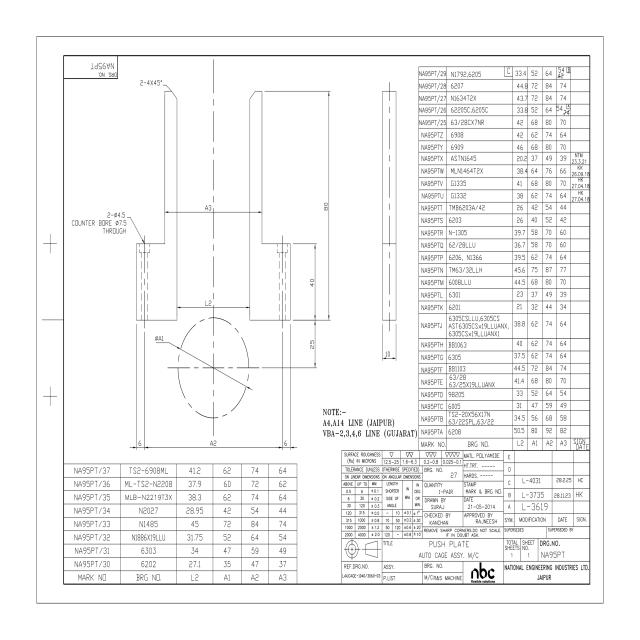dimension: (153, 332, 255, 393), (321, 89, 333, 320), (68, 209, 143, 240), (162, 200, 265, 217), (175, 297, 252, 312), (307, 242, 320, 319), (138, 76, 174, 94), (306, 319, 318, 371), (379, 349, 398, 363), (206, 435, 222, 451), (283, 436, 289, 448), (137, 436, 143, 448)
